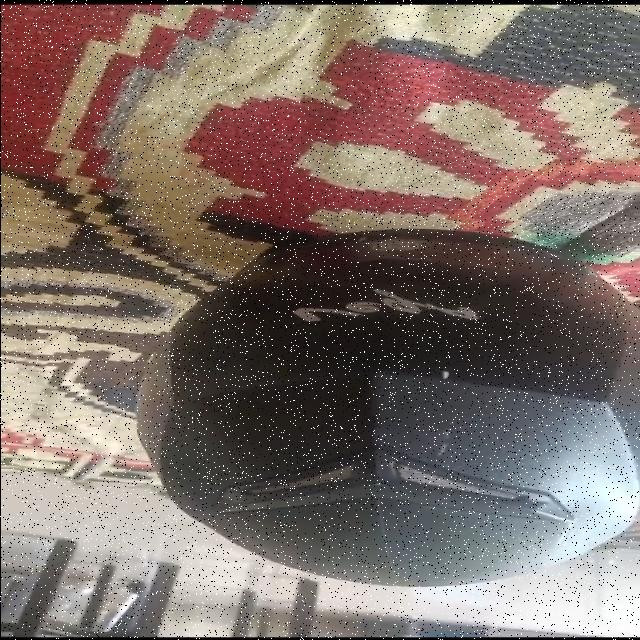Helmet: (135, 228, 640, 587)
